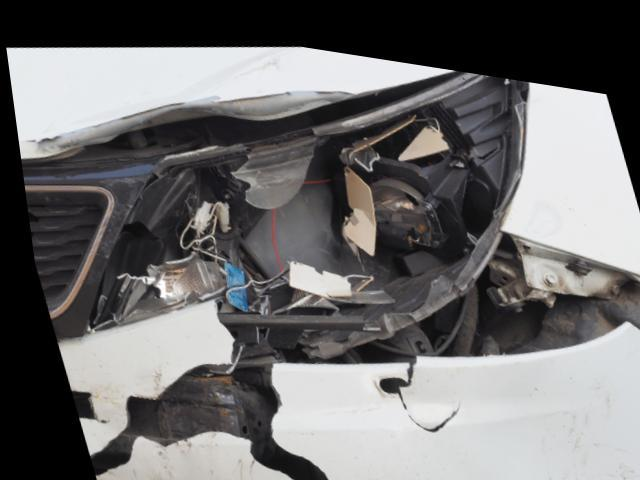crack: (77, 304, 320, 480), (369, 345, 451, 420)
lamp broken: (88, 59, 521, 326)
scratch: (524, 372, 639, 480)
